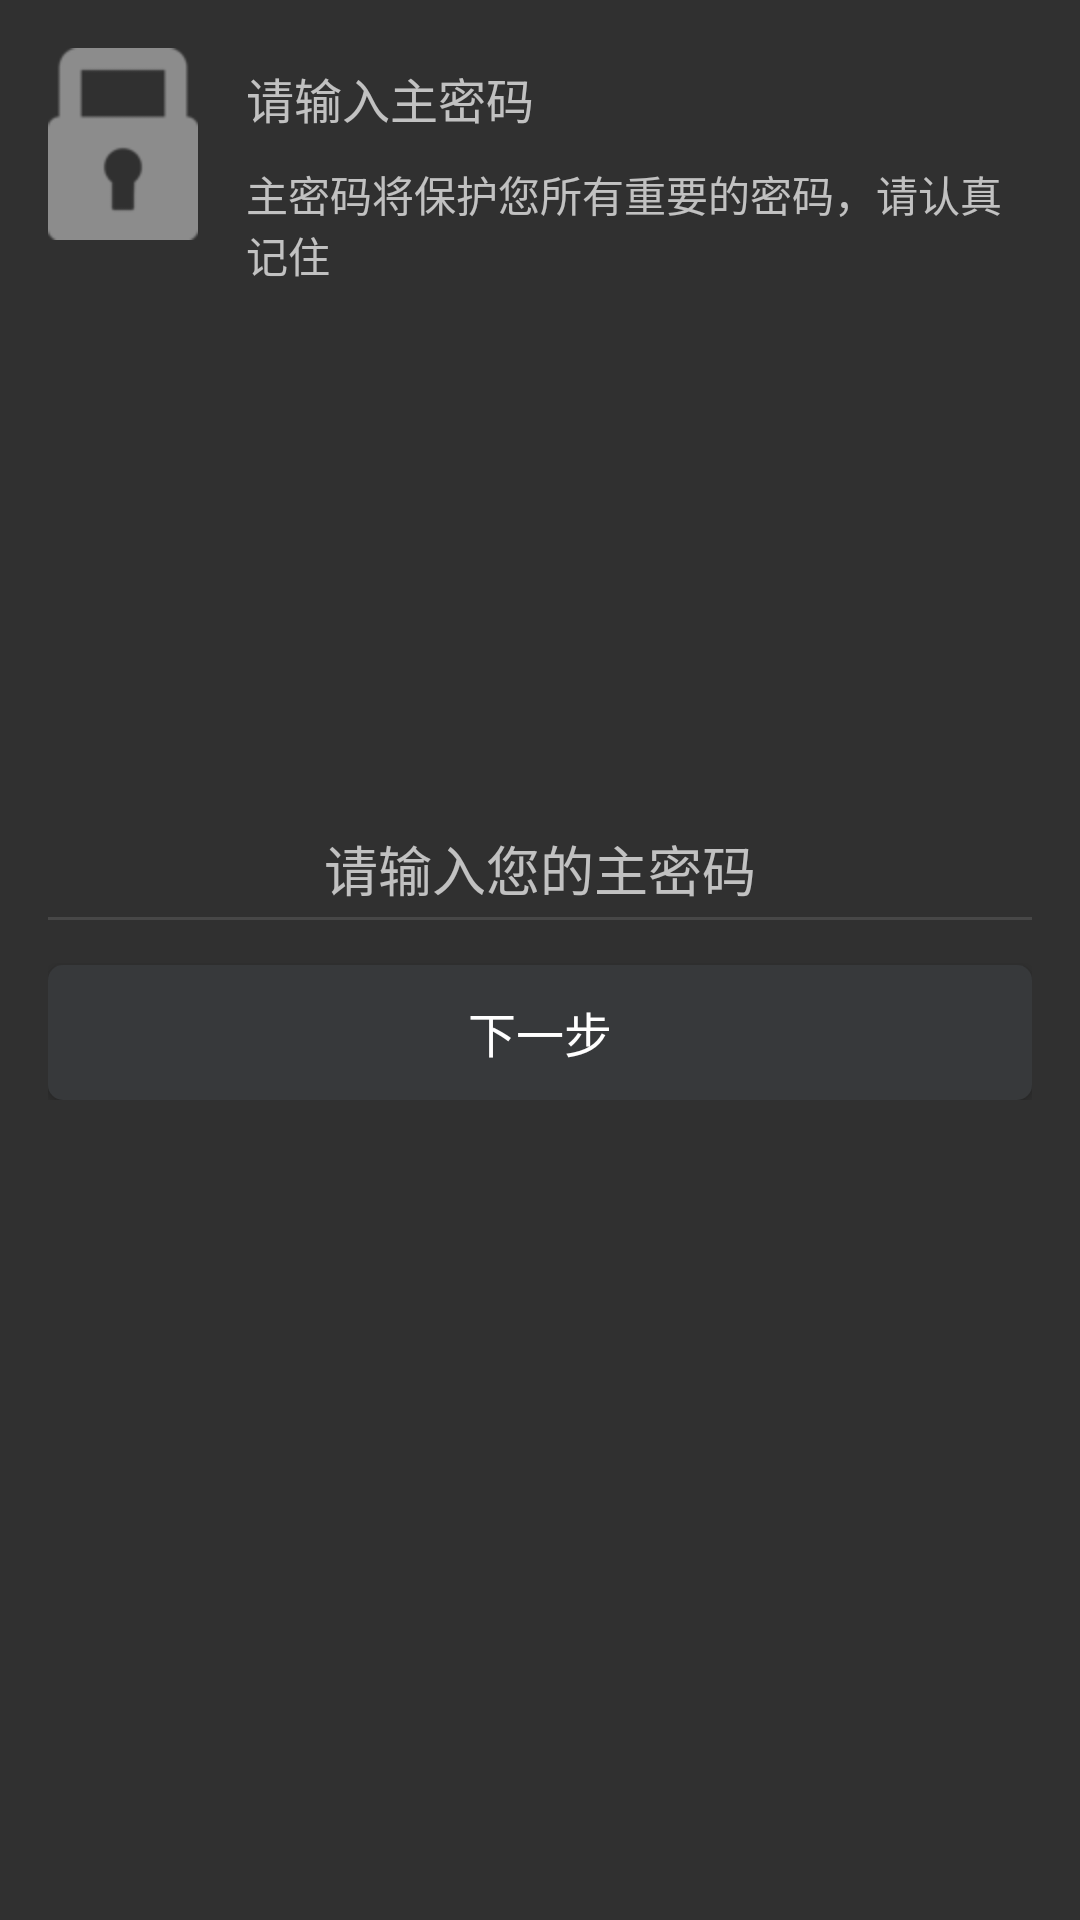

Icon bounding boxes for this 1080px×1920px phone screenshot, format (x1, y1, x2, y2):
lock: (48, 48, 198, 240)
